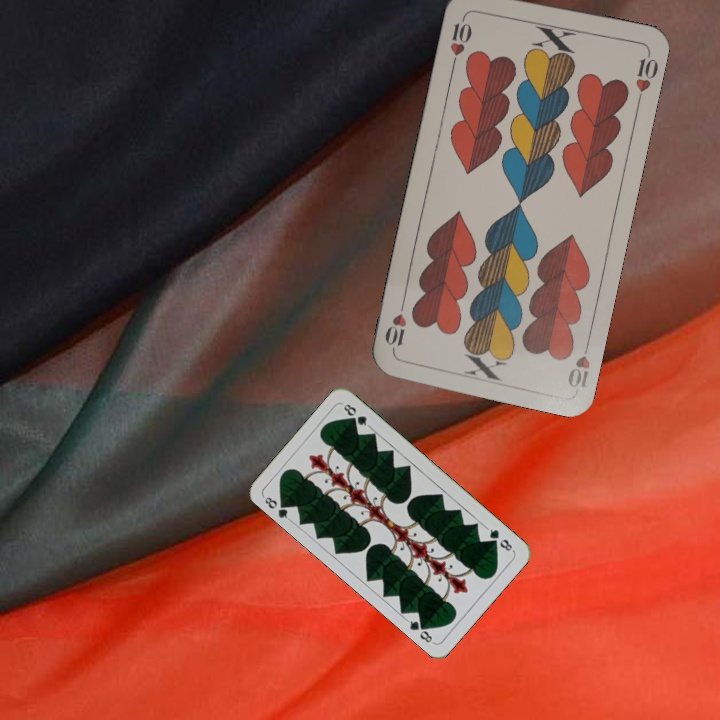G8: (482, 524, 516, 554), (259, 493, 293, 523)
H10: (446, 10, 475, 69), (563, 334, 593, 391)
